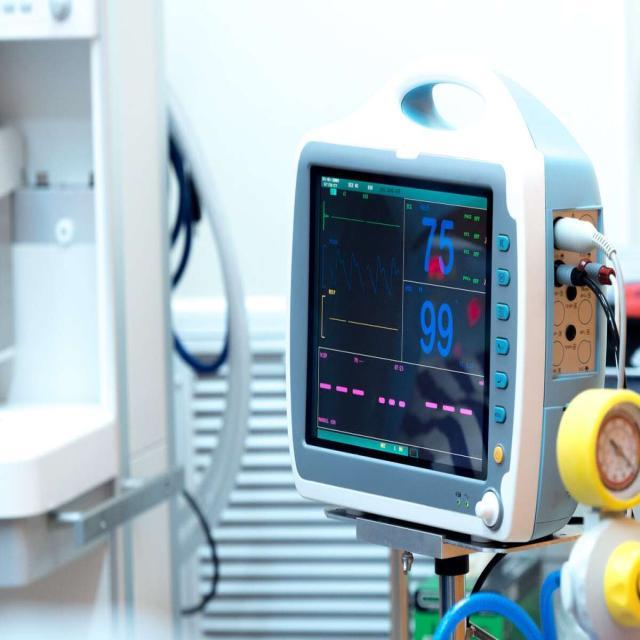Monitor: (266, 74, 629, 640)
